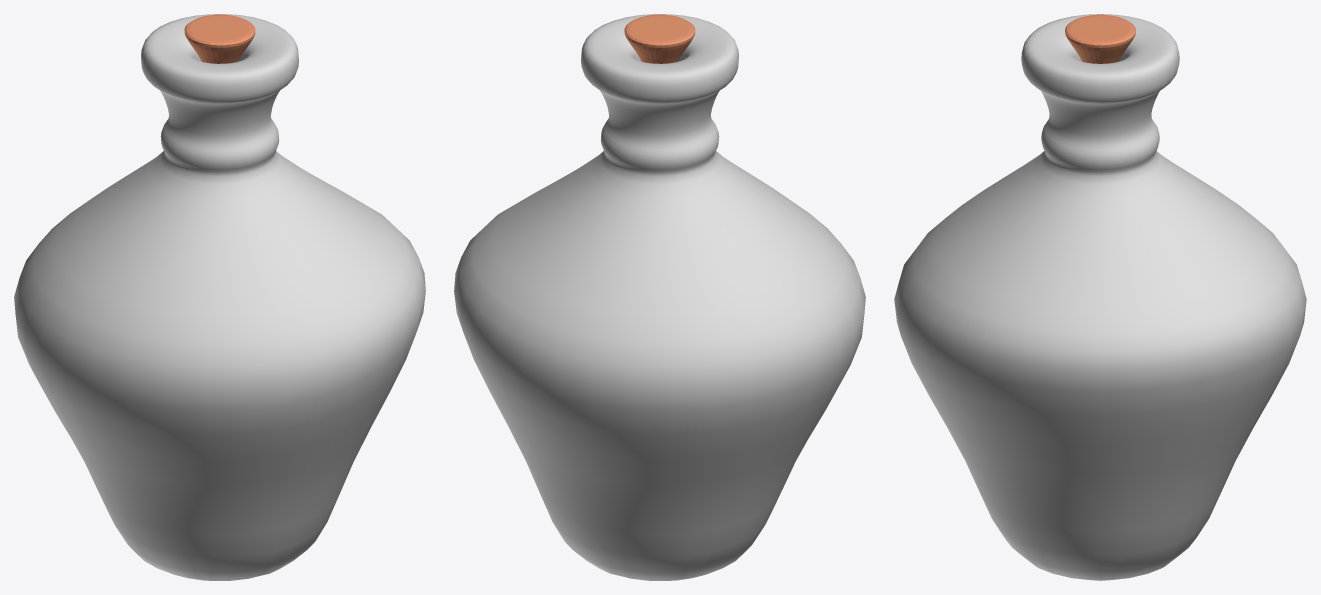
File: spell.fbx
3 views of the same model, side by side, from view 1: azimuth 30°, elevation 25°; view 2: azimuth 150°, elevation 25°; view 3: azimuth 270°, elevation 25° (orthographic).
Parts seen in each view (by area): view 1: Cylinder.003, Cylinder.004; view 2: Cylinder.003, Cylinder.004; view 3: Cylinder.003, Cylinder.004.
Part boxes in pixels (x1,y1,x2,y2): Cylinder.003: (14,14,425,580); Cylinder.004: (184,14,255,63); Cylinder.003: (454,14,865,580); Cylinder.004: (624,14,695,63); Cylinder.003: (894,14,1306,580); Cylinder.004: (1065,14,1135,63).
Bounding box in the file's own units: 77.54 × 111 × 77.54.
